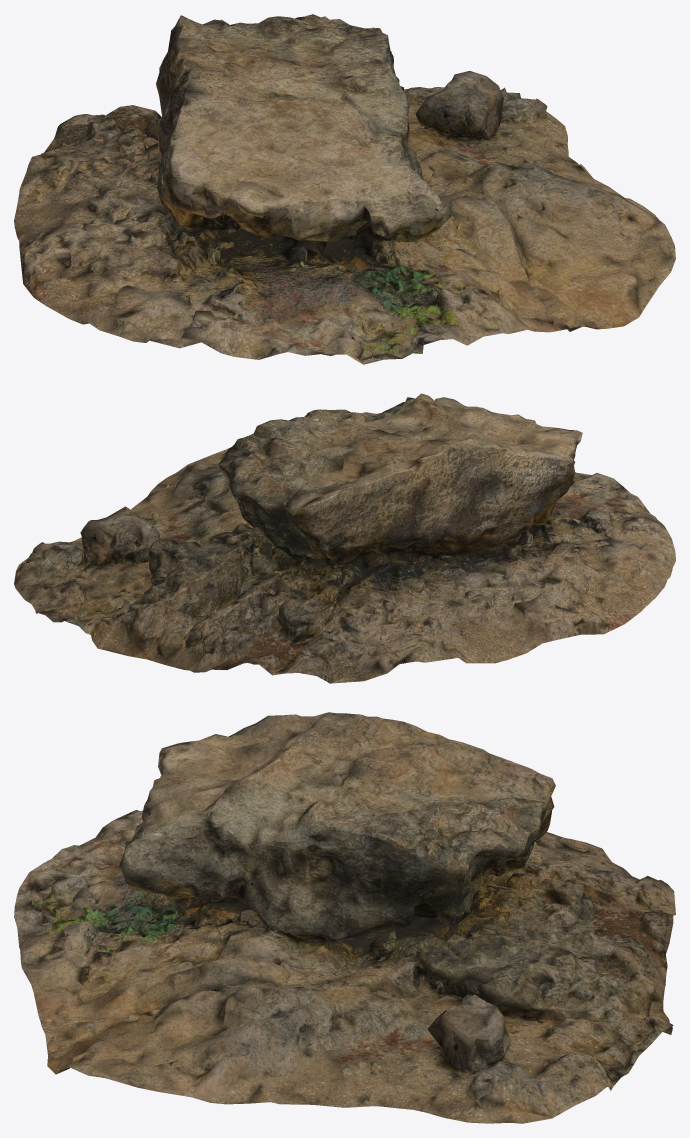
File: coast_rocks_05.glb
3 renders of one model, top to bottom at view 1: azimuth 30°, elevation 25°; view 2: azimuth 150°, elevation 25°; view 3: azimuth 270°, elevation 25°, orthographic. The views are drawn at different scales.
Parts seen in each view (by area): view 1: coast_rocks_05; view 2: coast_rocks_05; view 3: coast_rocks_05.
Part boxes in pixels (bbox=[...]): coast_rocks_05: bbox=[14, 14, 675, 364]; coast_rocks_05: bbox=[14, 393, 675, 683]; coast_rocks_05: bbox=[14, 712, 675, 1123].
Size of the model in its own units: 4.04 by 1.33 by 3.75.
Materials: 1 (1 with a texture image).
